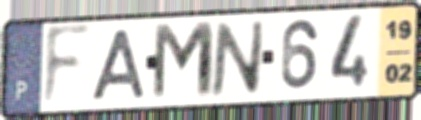4: (327, 12, 376, 94)
6: (279, 17, 320, 95)
A: (88, 27, 149, 104)
F: (40, 22, 94, 113)
M: (150, 19, 218, 104)
N: (208, 18, 267, 99)
